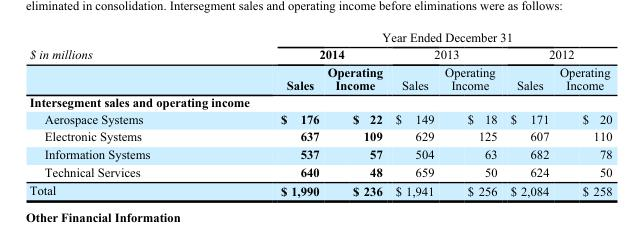table: (28, 29, 611, 197)
table column: (28, 29, 214, 197), (214, 29, 322, 197), (322, 29, 388, 197), (438, 29, 503, 197), (553, 29, 611, 197), (388, 29, 438, 197), (503, 29, 553, 197)
table column header: (28, 29, 611, 93)
table projected row header: (28, 93, 611, 110)
table row: (28, 62, 611, 93), (28, 127, 611, 145), (28, 162, 611, 180), (28, 45, 611, 62), (28, 93, 611, 110), (28, 110, 611, 127), (28, 145, 611, 162), (28, 180, 611, 197), (28, 29, 611, 45)
table spanning cell: (28, 29, 214, 93), (214, 29, 611, 45), (214, 45, 388, 62), (388, 45, 503, 62), (503, 45, 611, 62)
